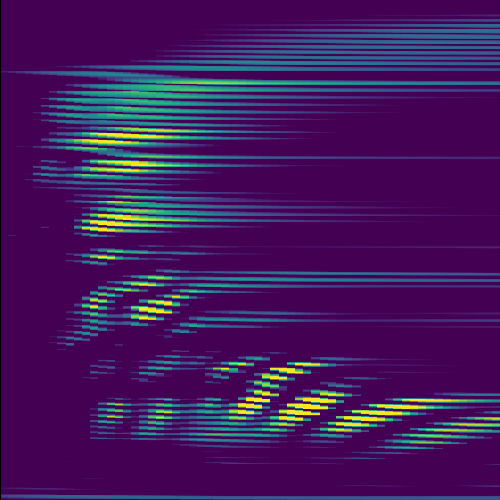semblance: (84, 270, 200, 326), (229, 356, 323, 425), (326, 389, 464, 436), (77, 193, 190, 240), (395, 409, 500, 447), (71, 119, 206, 148), (276, 380, 347, 431), (73, 155, 189, 180), (209, 354, 249, 376), (91, 248, 123, 266)
